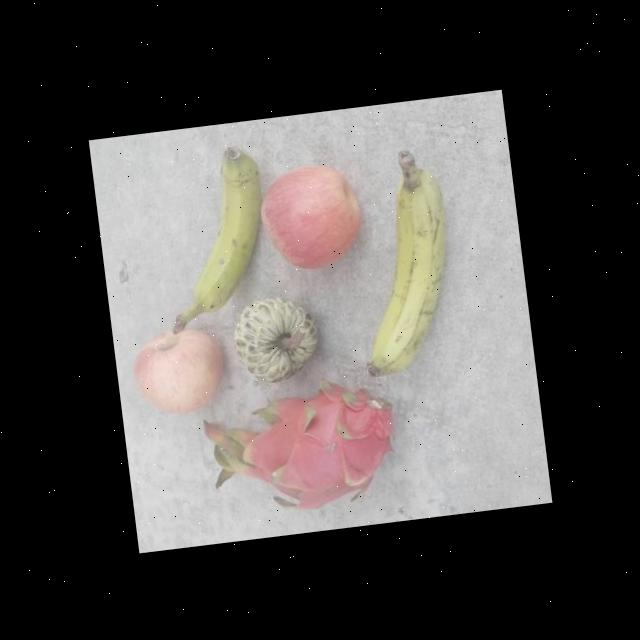Sakya fruit: (227, 288, 325, 388)
apple: (254, 157, 368, 276), (128, 320, 231, 420)
banana: (341, 146, 464, 378), (150, 142, 278, 334)
pitaya: (199, 372, 404, 520)
